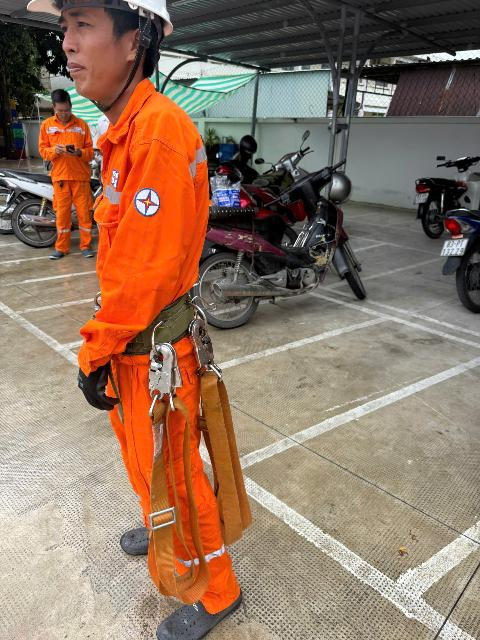gloves: (54, 336, 122, 412)
harness: (63, 290, 271, 366)
helmet: (6, 0, 229, 56)
shoes: (137, 574, 276, 640), (102, 502, 179, 560), (46, 239, 72, 270), (78, 241, 98, 267)
